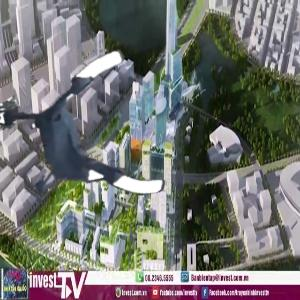drone: (6, 65, 168, 227)
